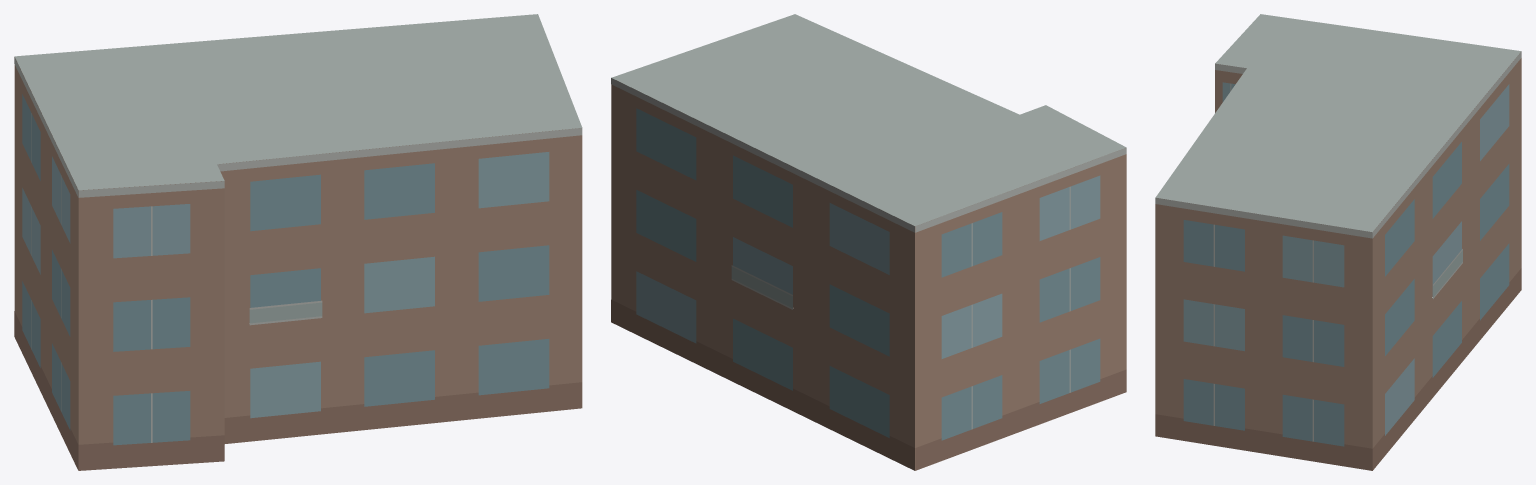
The model's file is survey-upis-32818409.glb.
3 views of the same model, side by side, from view 1: azimuth 30°, elevation 25°; view 2: azimuth 150°, elevation 25°; view 3: azimuth 270°, elevation 25° (orthographic). The views are drawn at different scales.
Visible parts, largest first — view 1: survey-upis-32818409.tmp; view 2: survey-upis-32818409.tmp; view 3: survey-upis-32818409.tmp.
Boxes of the visible parts, left/top/right/bottom form: survey-upis-32818409.tmp: left=14, top=14, right=582, bottom=470; survey-upis-32818409.tmp: left=611, top=14, right=1126, bottom=470; survey-upis-32818409.tmp: left=1155, top=14, right=1521, bottom=470.
Bounding box in the file's own units: 17.95 × 9.15 × 12.73.
